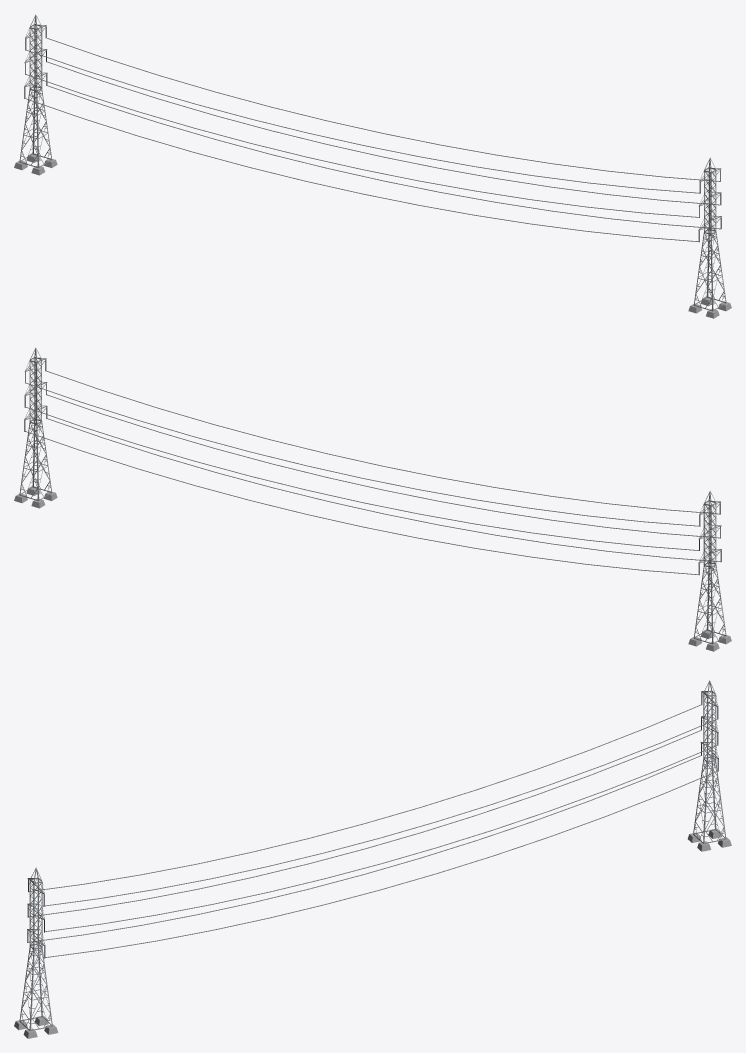
Rendered from powerline.glb.
3 views of the same model, one above another, from view 1: azimuth 30°, elevation 25°; view 2: azimuth 210°, elevation 25°; view 3: azimuth 270°, elevation 25° (orthographic). The views are drawn at different scales.
Parts seen in each view (by area): view 1: object 43, object 42, object 44, object 40, object 39, object 41; view 2: object 41, object 39, object 40, object 43, object 42, object 44; view 3: object 40, object 39, object 41, object 44, object 42, object 43.
Part boxes in pixels (bbox=[...]): object 43: bbox=[25, 74, 699, 217]; object 42: bbox=[26, 50, 699, 193]; object 44: bbox=[25, 98, 698, 241]; object 40: bbox=[47, 85, 720, 229]; object 39: bbox=[46, 61, 719, 205]; object 41: bbox=[47, 38, 720, 181]; object 41: bbox=[25, 382, 698, 526]; object 39: bbox=[26, 407, 699, 550]; object 40: bbox=[25, 431, 698, 574]; object 43: bbox=[47, 394, 720, 538]; object 42: bbox=[46, 370, 719, 514]; object 44: bbox=[47, 418, 720, 562]; object 40: bbox=[45, 770, 717, 957]; object 39: bbox=[45, 745, 717, 931]; object 41: bbox=[43, 719, 716, 906]; object 44: bbox=[28, 755, 701, 942]; object 42: bbox=[28, 704, 701, 891]; object 43: bbox=[28, 729, 701, 917].
Bounding box in the file's own units: 136 × 49.97 × 200.
4 materials, 1 textured.
